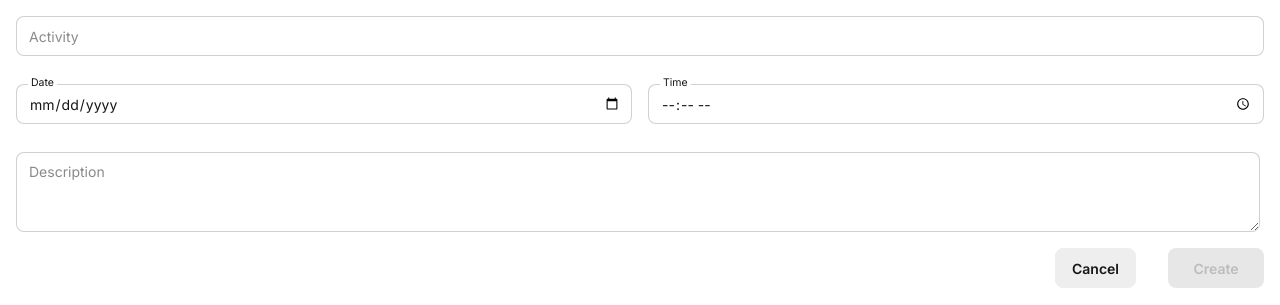
Test: Itinerary Item Editor › date input › required error › is displayed after tabbing out of the input
Click the date field labelled "Date" at (324, 104), box [16,84,632,124]
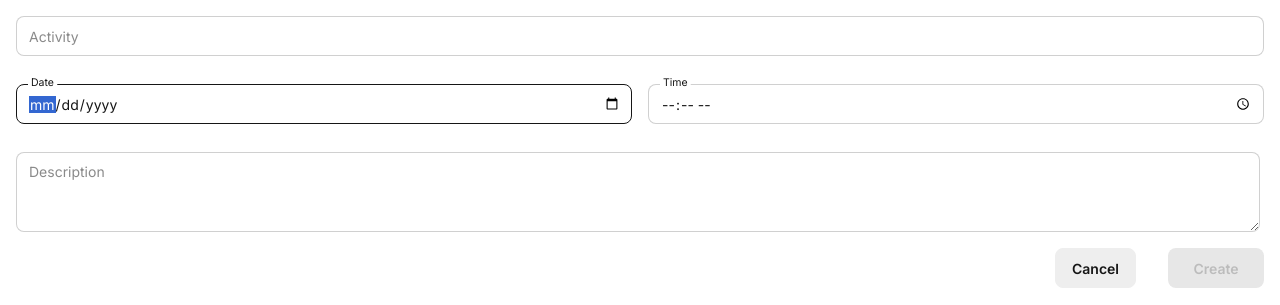
Press Tab
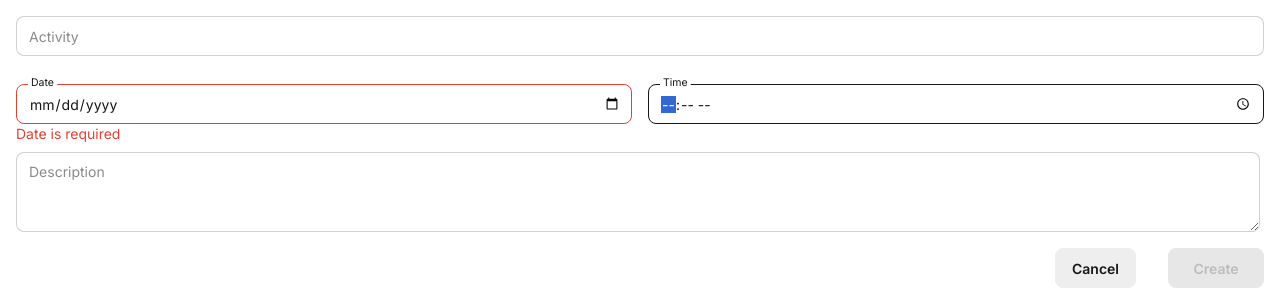
Expected: the text "Date is required" is shown, [16,125,120,142]
